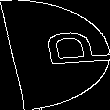P_W: (7, 34, 103, 76)
